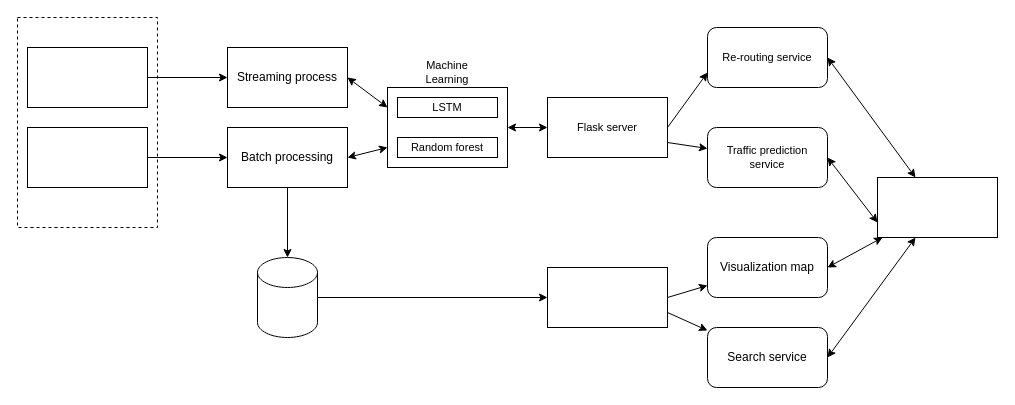
Image size: 1015x405. Some labels were removed from this diagram. Each missing label, with the centre of its shape:
Batch data: pixel 87 157
Mapbox: pixel 937 207
MongoDB: pixel 287 297
Real-time data: pixel 87 77
Web server: pixel 607 297
